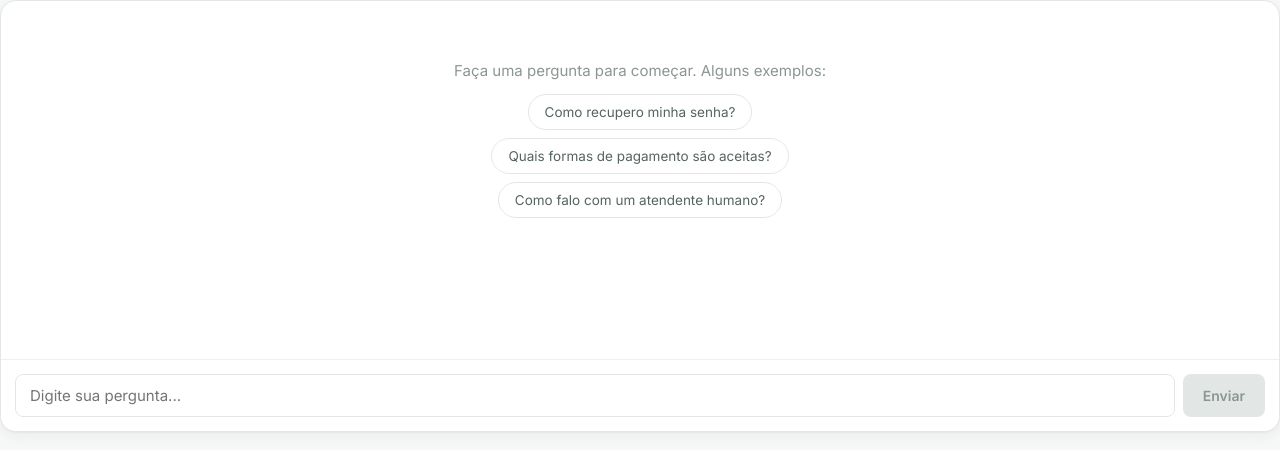
Scenario: ChatWindow › exibe o badge 'Sem resposta encontrada' quando sem_resposta é true
Type "Pergunta sem resposta na base" into the field with placeholder "Digite sua pergunta..." at (595, 396), box [15,374,1175,417]
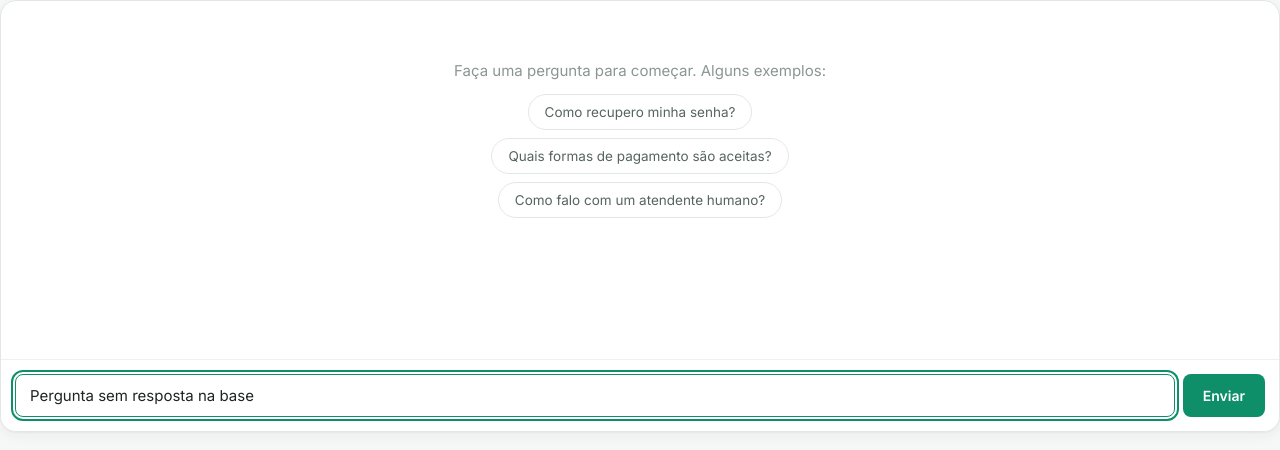
Click the button "Enviar" at (1224, 396), box [1183,374,1265,417]
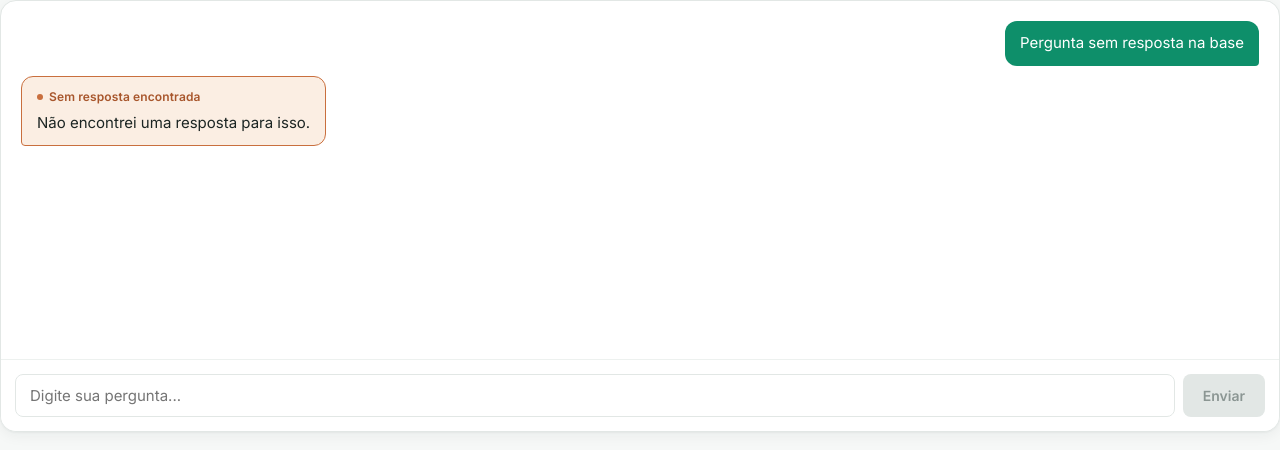
Now the text "Sem resposta encontrada" is shown, box [49,88,200,104]
Now the text "Não encontrei uma resposta para isso." is shown, box [37,112,310,134]
